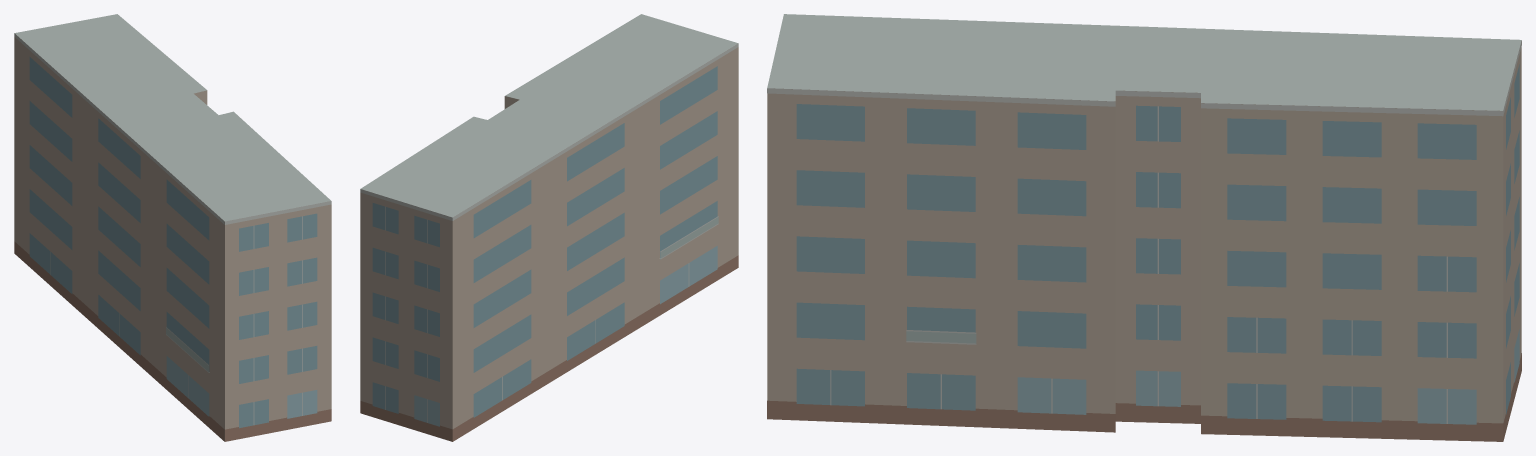
File: survey-upis-32595648.glb
3 renders of one model, left to right at view 1: azimuth 30°, elevation 25°; view 2: azimuth 150°, elevation 25°; view 3: azimuth 270°, elevation 25°, orthographic. The views are drawn at different scales.
Parts seen in each view (by area): view 1: survey-upis-32595648.tmp; view 2: survey-upis-32595648.tmp; view 3: survey-upis-32595648.tmp.
Boxes of the visible parts, x1,y1,x2,y2 form: survey-upis-32595648.tmp: (14,14,331,441); survey-upis-32595648.tmp: (360,14,738,441); survey-upis-32595648.tmp: (767,14,1521,441).
Size of the model in its own units: 9.55 by 15.2 by 31.42.
